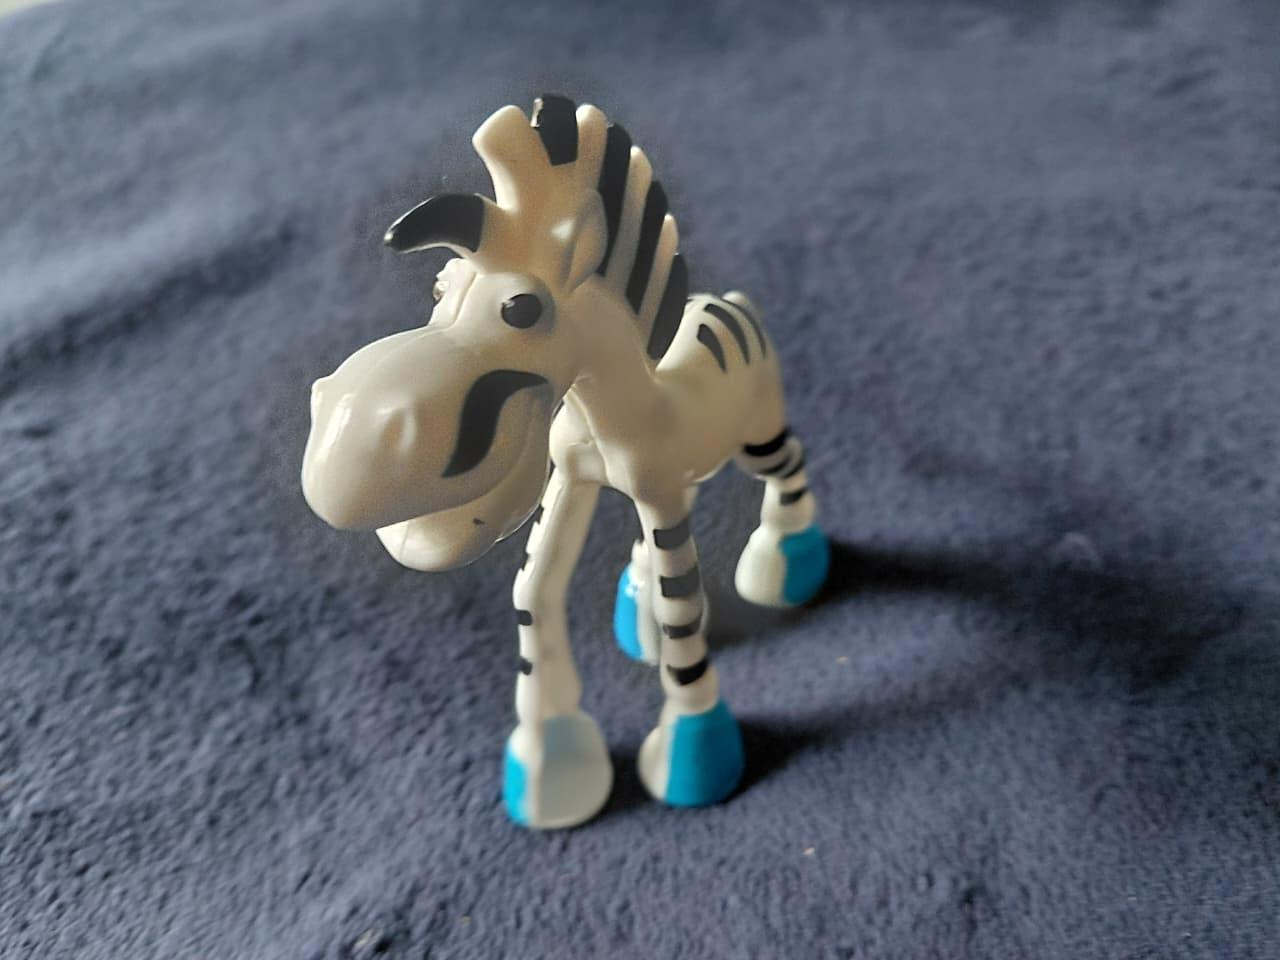zebra: (274, 67, 883, 829)
